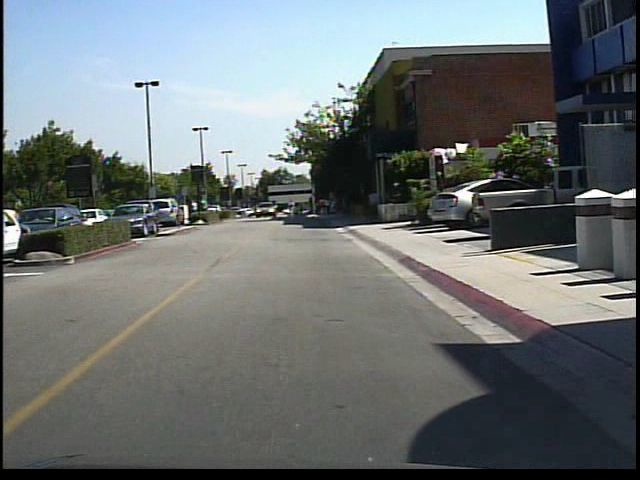person: (187, 192, 203, 221), (285, 196, 300, 223)
